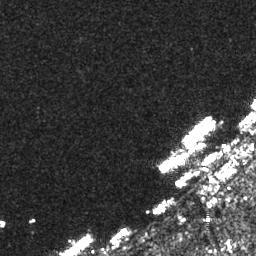ship: (181, 114, 213, 146), (152, 196, 176, 217), (175, 169, 197, 187), (108, 226, 129, 242), (29, 217, 37, 224)
